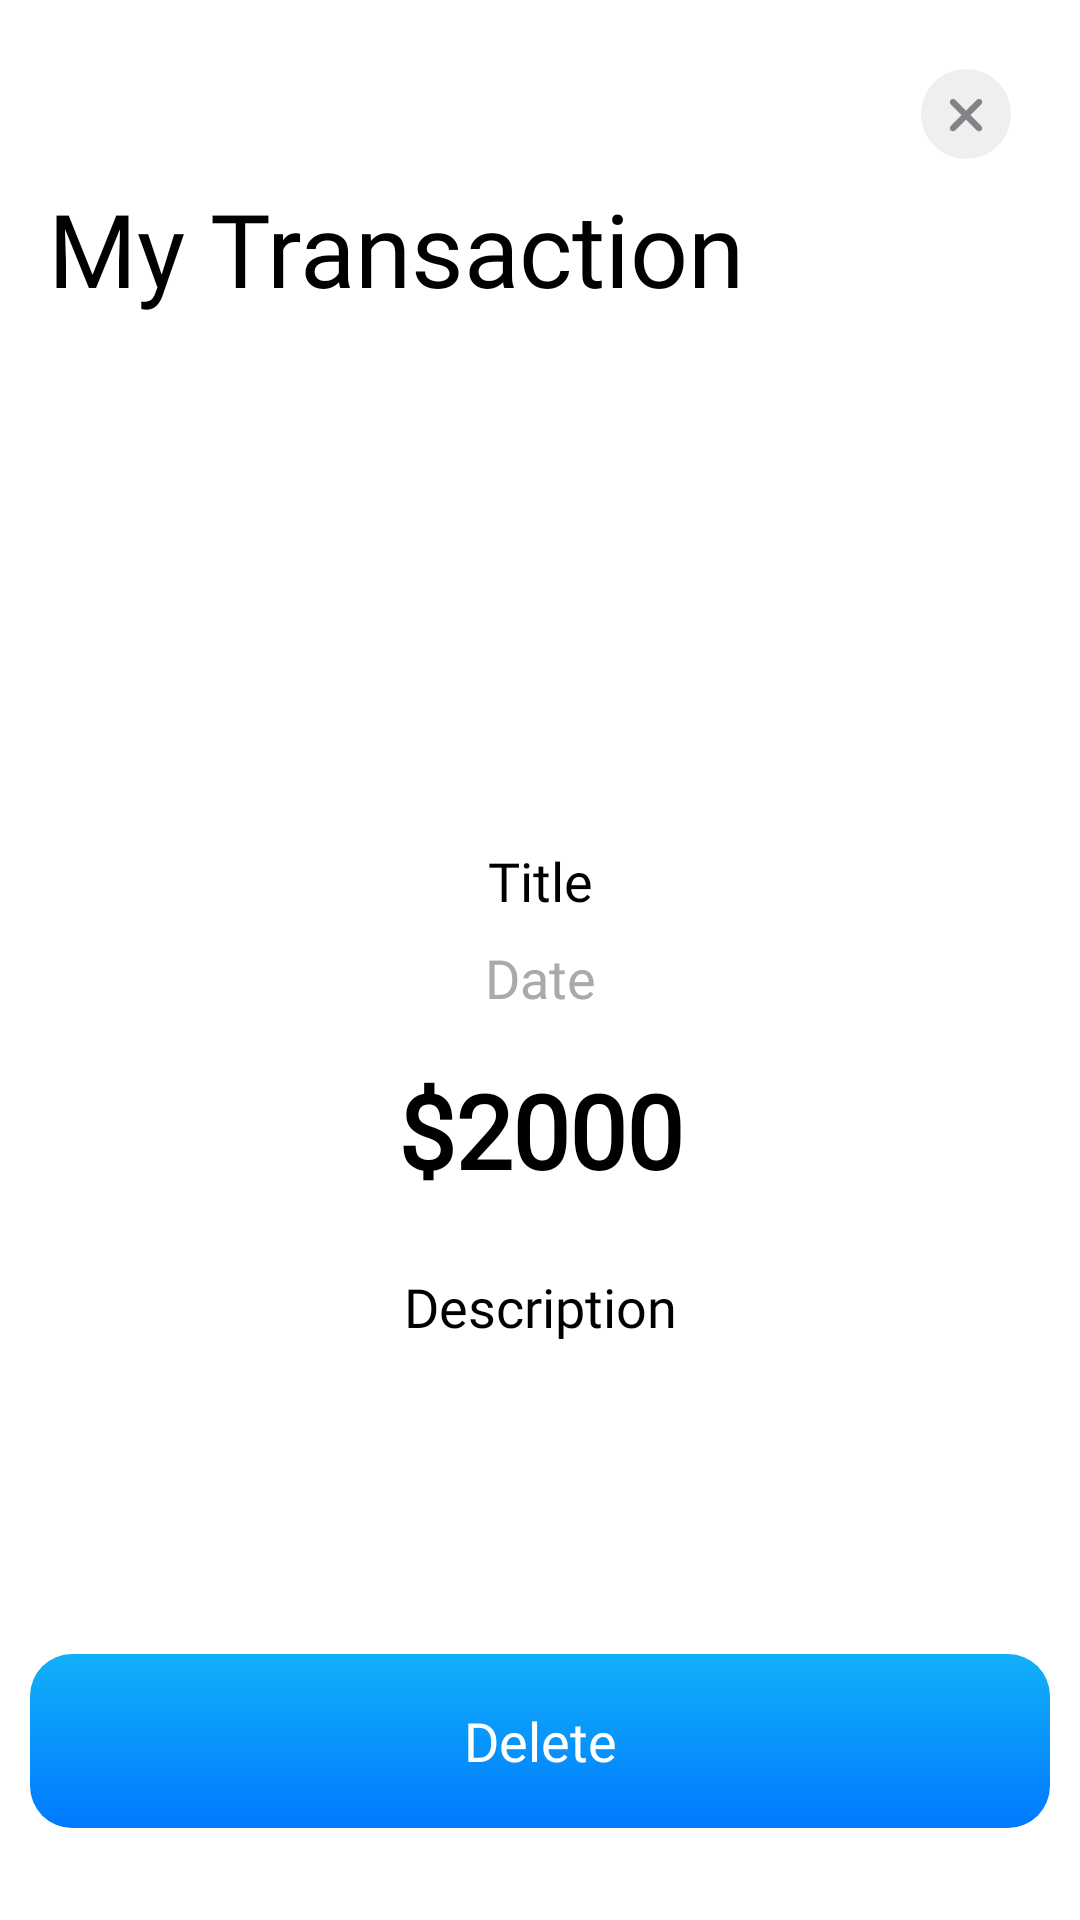

Named icons in this screenshot (1080w x 1920h) and their bounding boxes, box(x1, y1, x2, y2):
close: box(950, 99, 982, 132)
